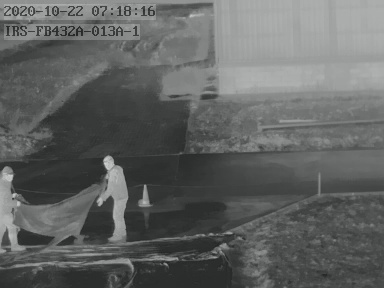person: (97, 154, 128, 240), (1, 165, 26, 253)
